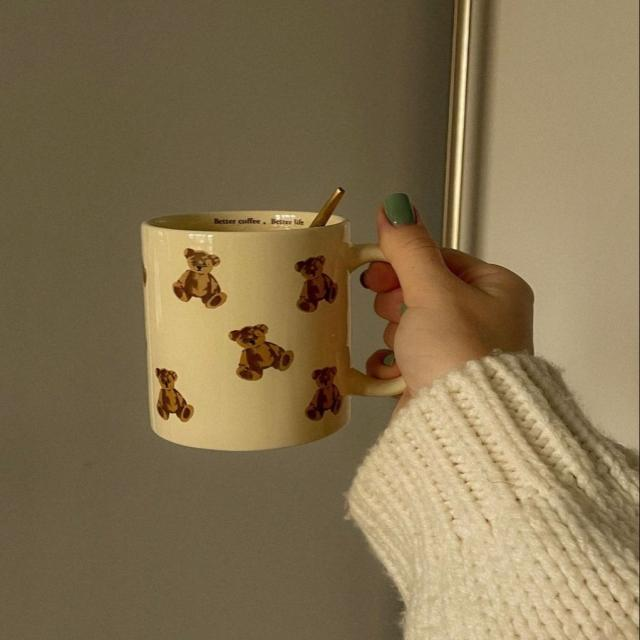glass cup: (141, 209, 409, 451)
